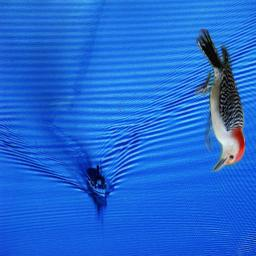Woodpecker: (195, 29, 245, 172)
